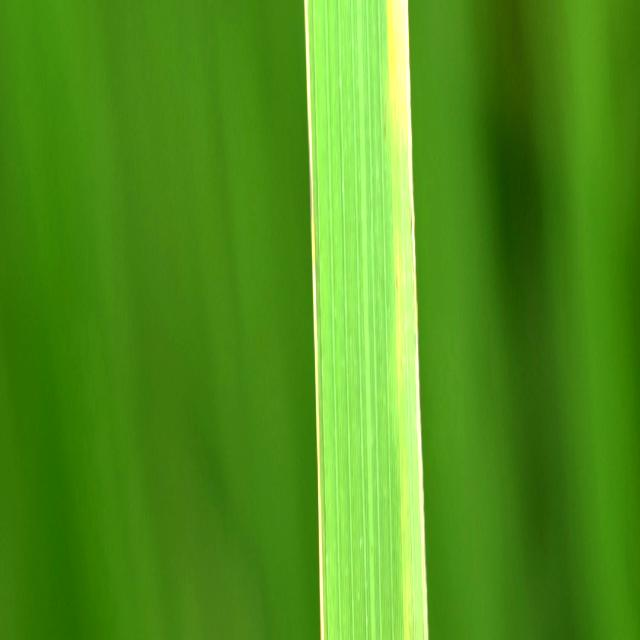BLB: (387, 0, 415, 263)
